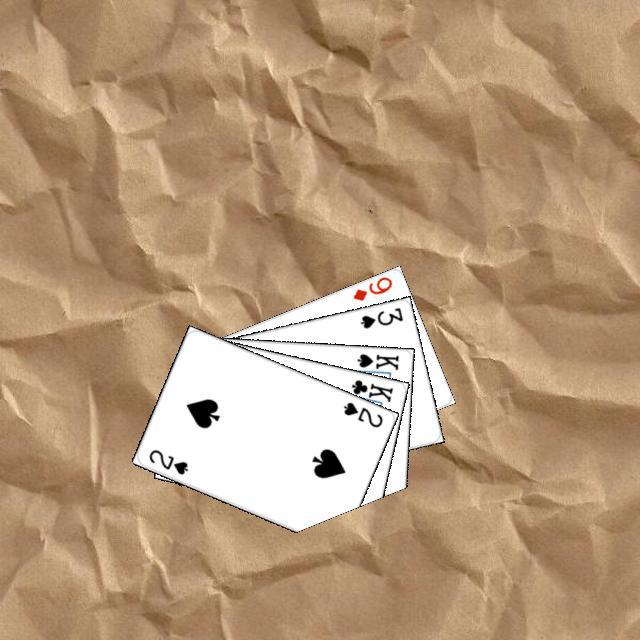2s: (338, 397, 384, 429), (144, 445, 190, 476)
3s: (355, 302, 404, 330)
9d: (348, 272, 394, 303)
Kc: (340, 375, 395, 406)
Ks: (352, 349, 400, 372)
